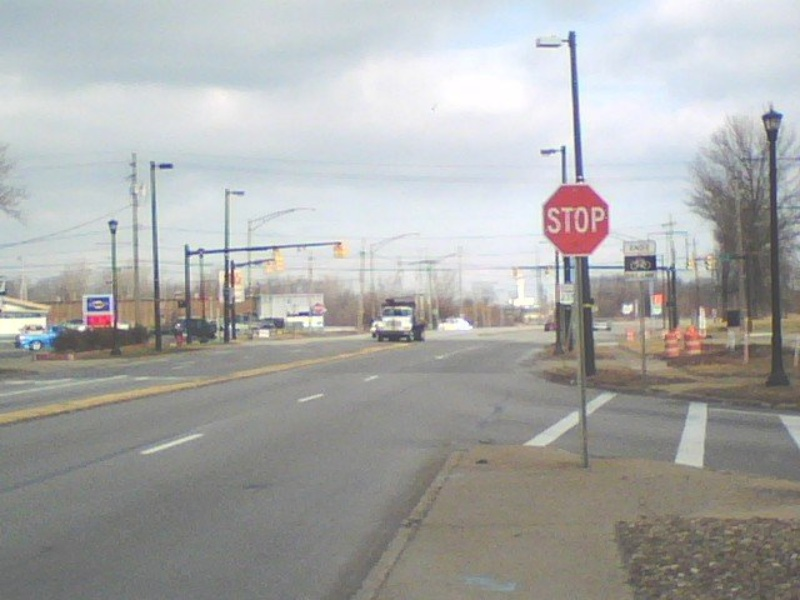stop sign: (536, 183, 614, 260)
